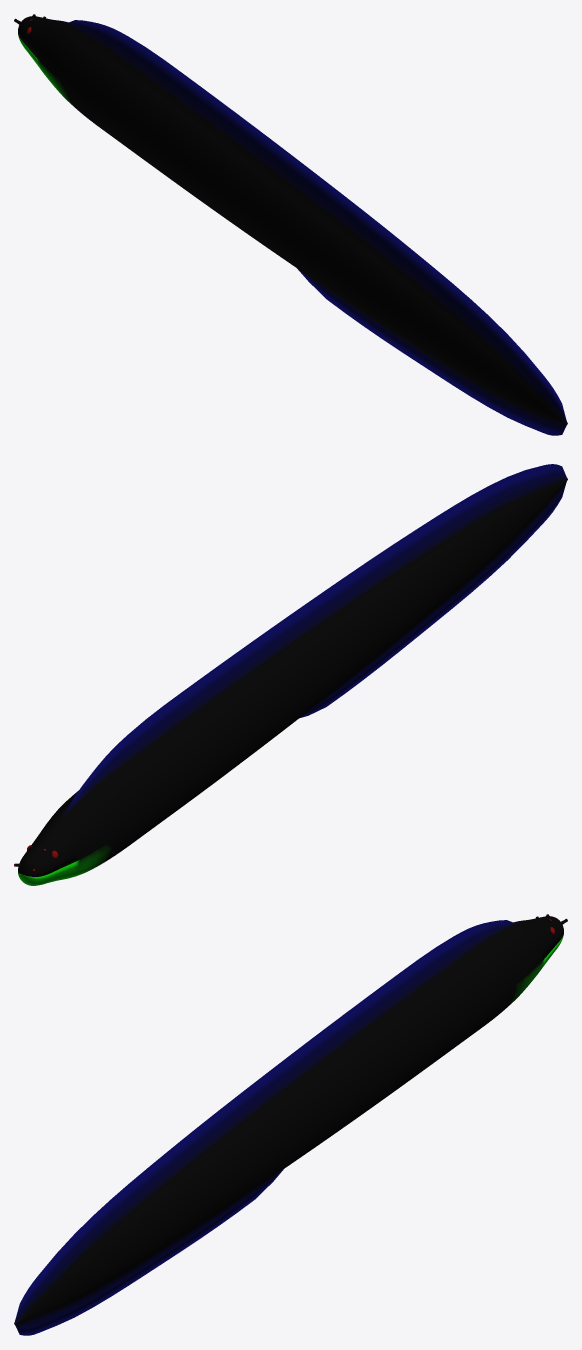
Rendered from moray_eel_game.glb.
The picture shows the model from 3 angles, top to bottom: view 1: azimuth 30°, elevation 25°; view 2: azimuth 150°, elevation 25°; view 3: azimuth 330°, elevation 25°; orthographic projection.
Visible parts, largest first — view 1: moray_eel_game; view 2: moray_eel_game; view 3: moray_eel_game.
Part boxes in pixels (box(x1,y1,x2,y2)): moray_eel_game: box(14, 14, 567, 435); moray_eel_game: box(14, 464, 567, 885); moray_eel_game: box(14, 914, 567, 1335).
Bounding box in the file's own units: 0.096 × 0.2216 × 1.8.
